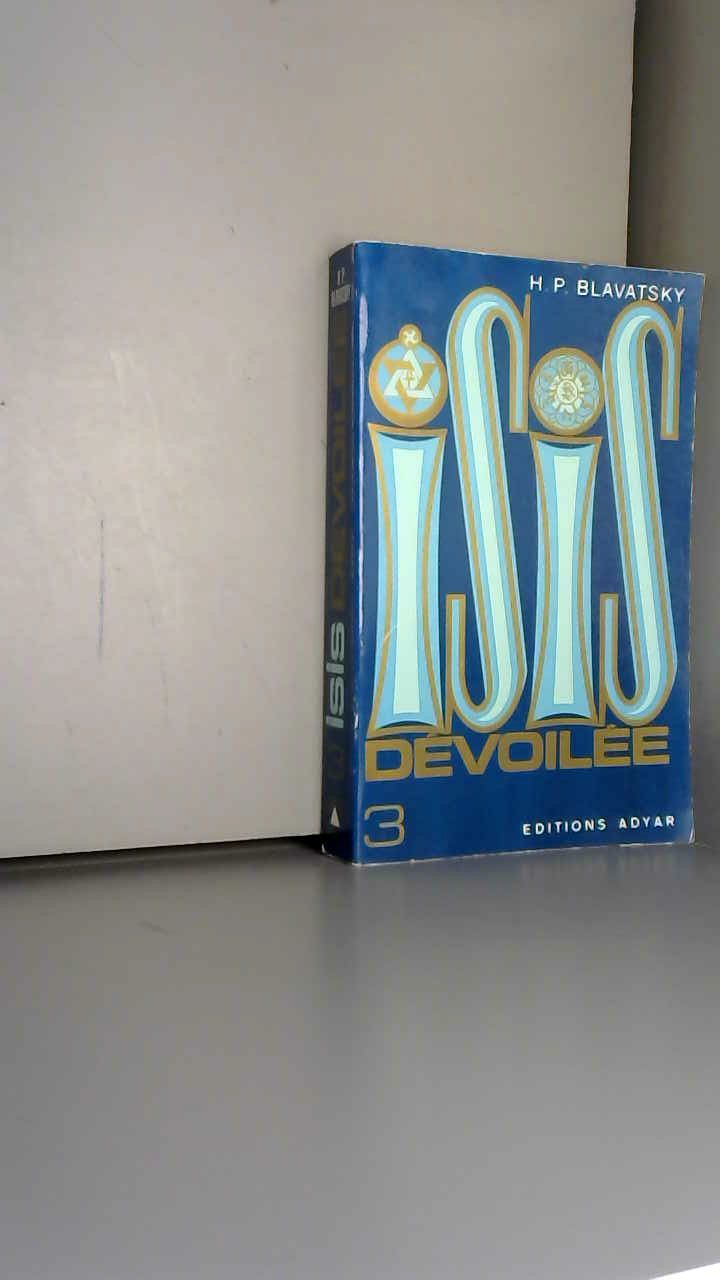book: (300, 210, 720, 880)
